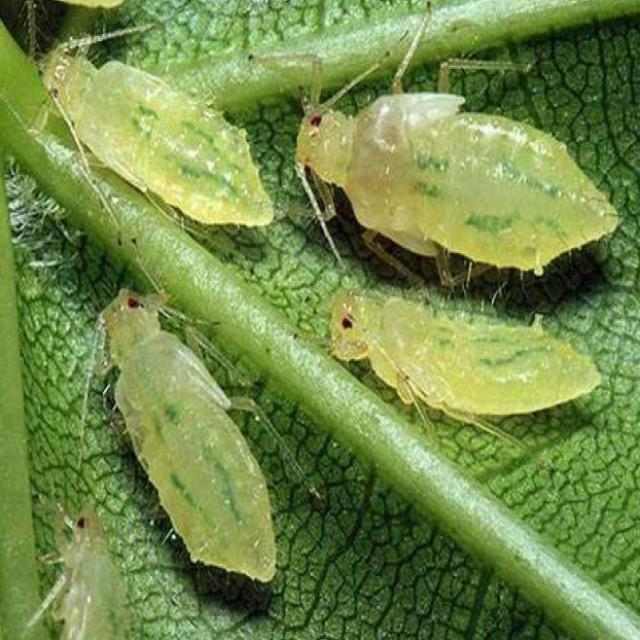Aphids: (281, 33, 640, 464), (27, 255, 336, 640), (10, 27, 278, 261)
